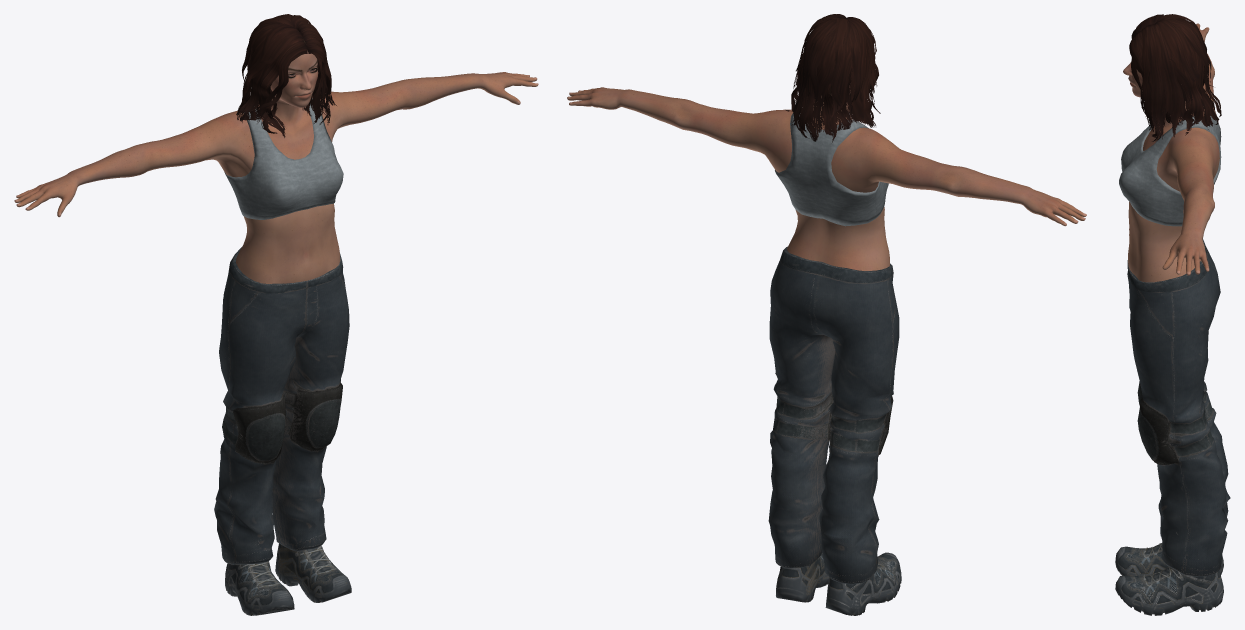
File: DaniTank-OBJ.obj
The picture shows the model from 3 angles, left to right: view 1: azimuth 30°, elevation 25°; view 2: azimuth 150°, elevation 25°; view 3: azimuth 270°, elevation 25°; orthographic projection.
Parts seen in each view (by area): view 1: Bottoms, Body, Tops, Hair, Shoes; view 2: Bottoms, Body, Hair, Tops, Shoes; view 3: Bottoms, Body, Hair, Shoes, Tops.
Part boxes in pixels (left/top/right/bottom): Bottoms: left=214, top=247, right=349, bottom=564; Body: left=14, top=31, right=538, bottom=283; Tops: left=224, top=98, right=343, bottom=219; Hair: left=236, top=14, right=336, bottom=137; Shoes: left=225, top=543, right=351, bottom=615; Bottoms: left=768, top=246, right=899, bottom=584; Body: left=567, top=85, right=1086, bottom=270; Hair: left=785, top=14, right=880, bottom=142; Tops: left=775, top=113, right=888, bottom=226; Shoes: left=776, top=552, right=901, bottom=615; Bottoms: left=1127, top=238, right=1230, bottom=576; Body: left=1123, top=23, right=1219, bottom=282; Hair: left=1129, top=14, right=1221, bottom=141; Shoes: left=1115, top=532, right=1223, bottom=615; Tops: left=1119, top=116, right=1221, bottom=226.
Bounding box in the file's own units: 158 × 168 × 30.55.
Materials: 5 (5 with a texture image).
